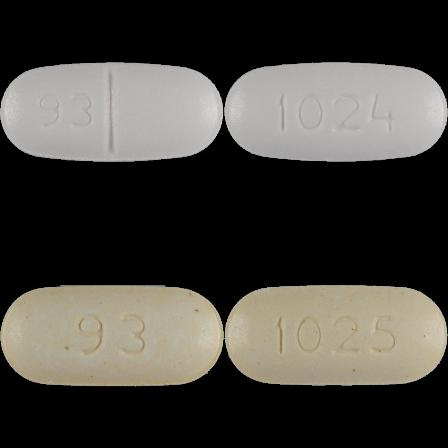0093-1024: (0, 0, 224, 224)
